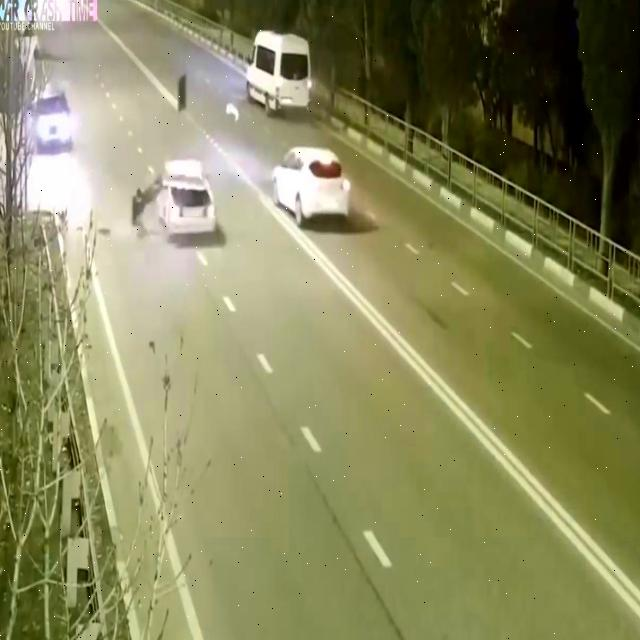accident: (124, 133, 229, 264)
